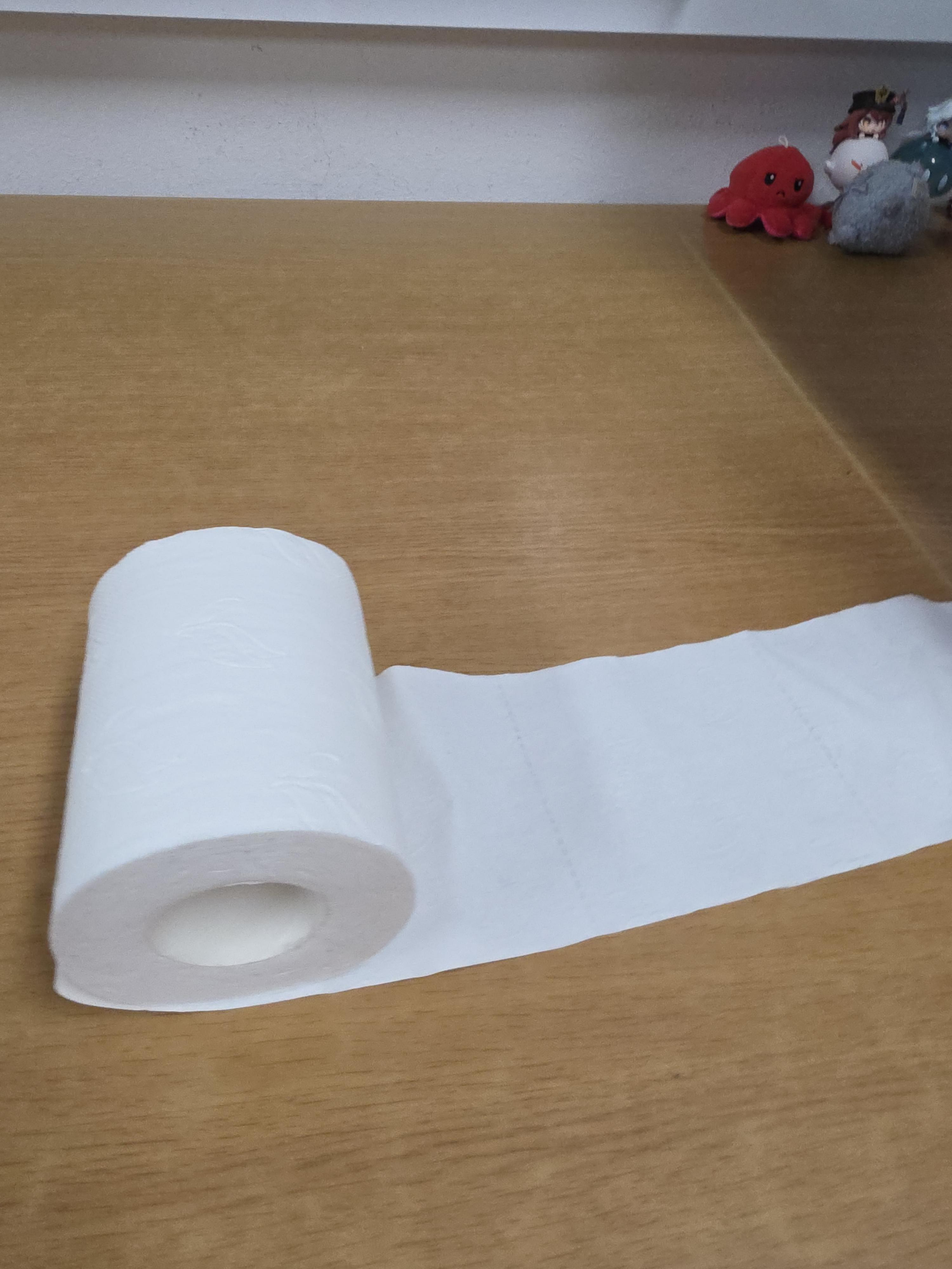tissue: (48, 526, 951, 1012)
